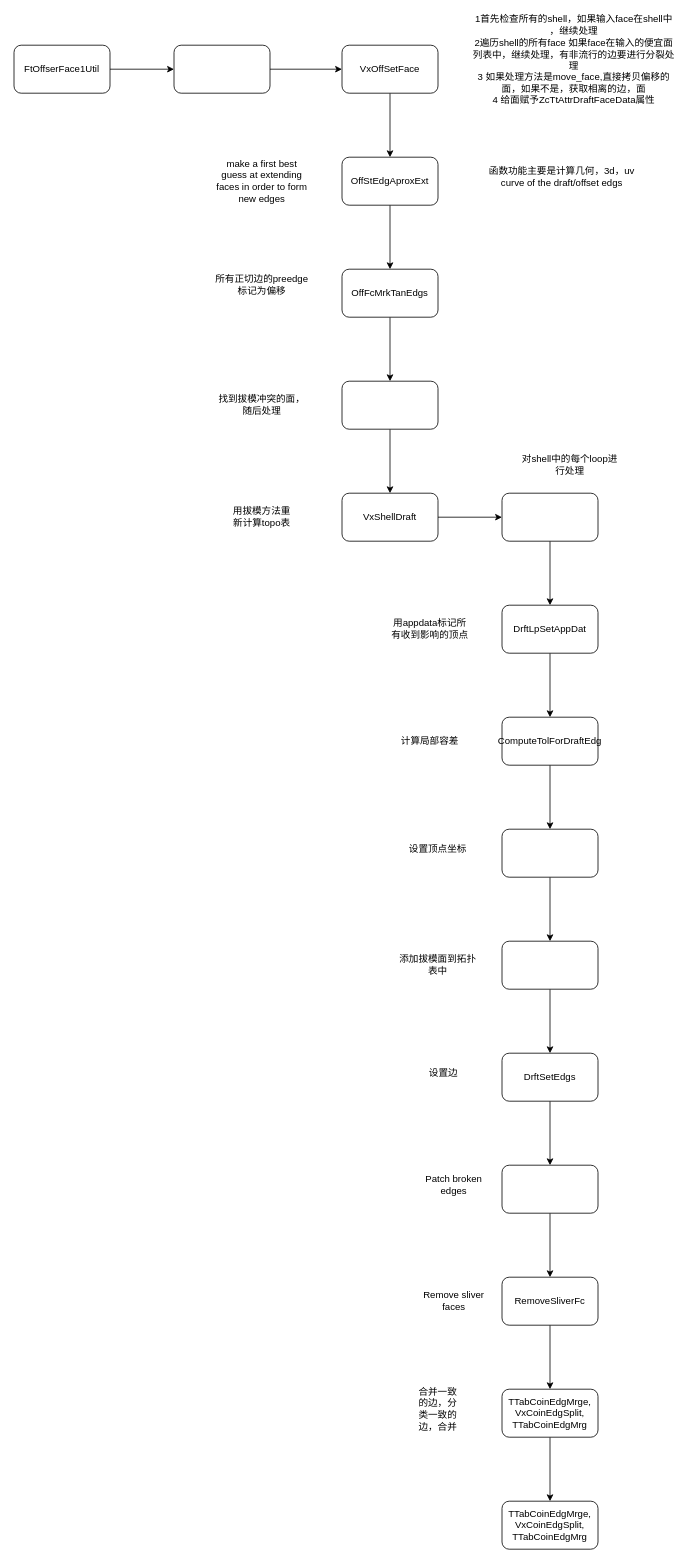
Image size: 692x1563. Some labels were removed from this diagram. Here are the shapes that lost their labels. From the top down, the centre of each, then its label:
At (221,68): "OffserMrgSameVtx".
At (389,404): "FindDrftConflictFcs".
At (549,516): "VxMergePEdgAtPole".
At (549,852): "DrftSetvtxs".
At (549,964): "DrftSetFcs".
At (549,1188): "ShlPtchBrkEdgs".
